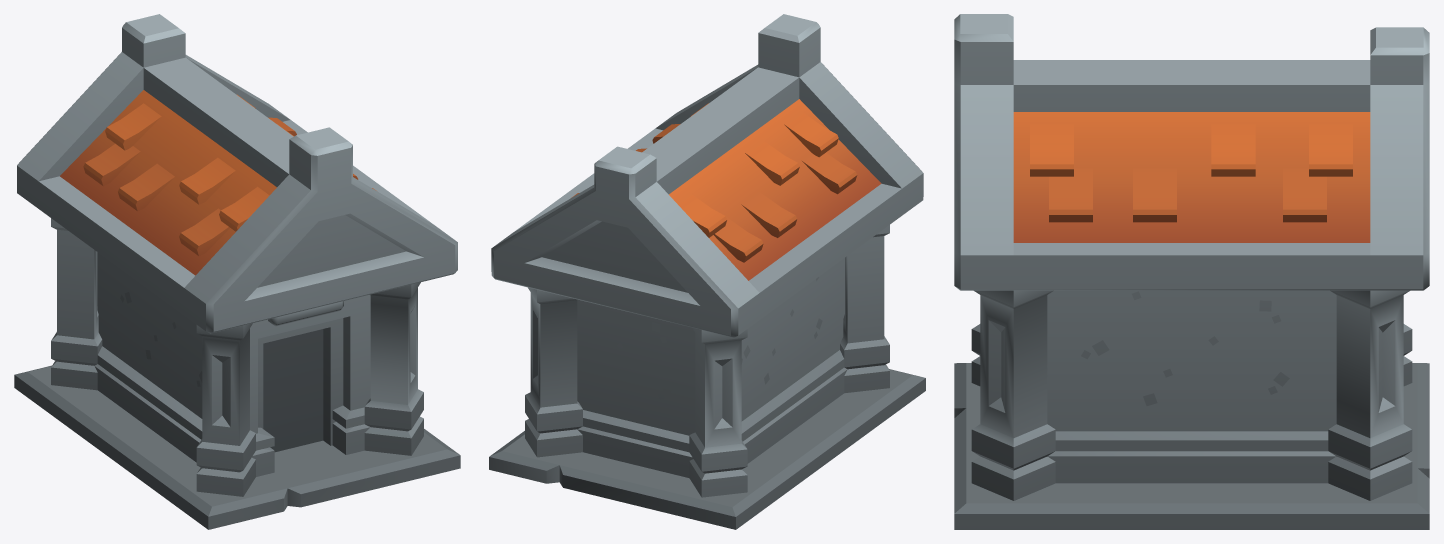
The model's file is crypt.glb.
The picture shows the model from 3 angles, left to right: view 1: azimuth 30°, elevation 25°; view 2: azimuth 150°, elevation 25°; view 3: azimuth 270°, elevation 25°; orthographic projection. The views are drawn at different scales.
Visible parts, largest first — view 1: crypt; view 2: crypt; view 3: crypt.
Boxes of the visible parts, x1,y1,x2,y2 form: crypt: (14, 14, 460, 529); crypt: (489, 14, 925, 529); crypt: (954, 14, 1429, 529).
Size of the model in its own units: 6 by 8 by 8.
1 material, 1 textured.
